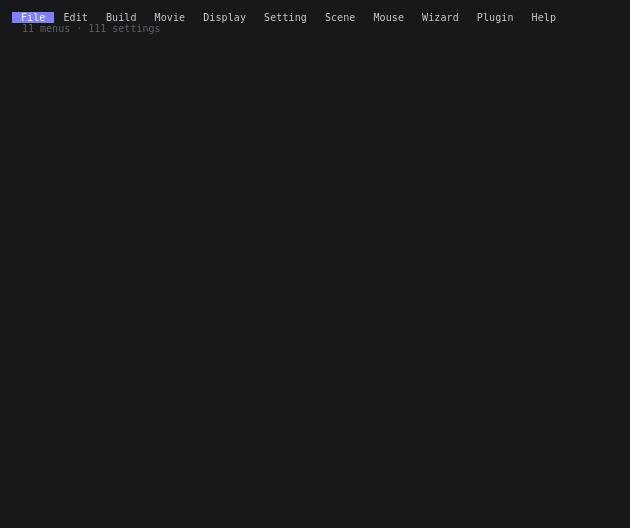
Scenario: row 65 — the submenu is not clipped away › places a nested list in viewport coordinates, not at left:100% inside the clip
The width and height of the screenshot is (630, 528).
Click the button with class "menubar__item" showing "Display" at (225, 18), box [194, 12, 255, 23]
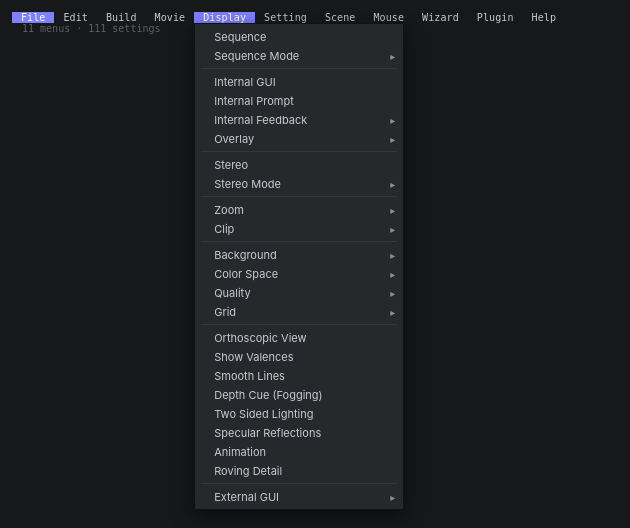
Hover over the menu item with class "menu__row" showing "Stereo Mode ▸" at (248, 184), box [195, 174, 403, 193]
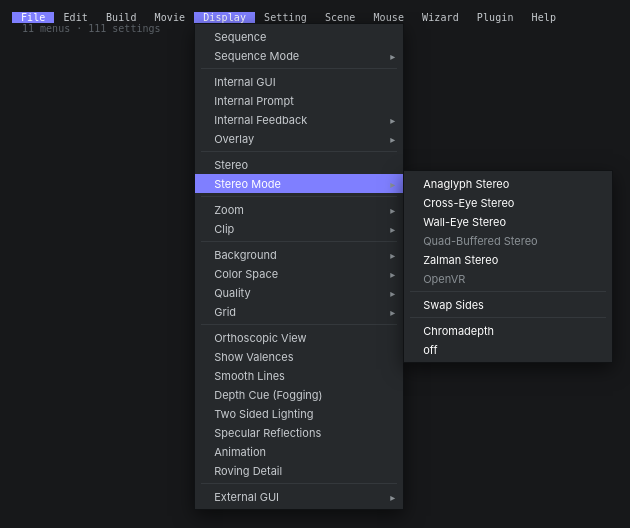
Result: the menu with class "menu" that starts with "Anaglyph Stereo" is shown at [403, 170, 613, 363]
